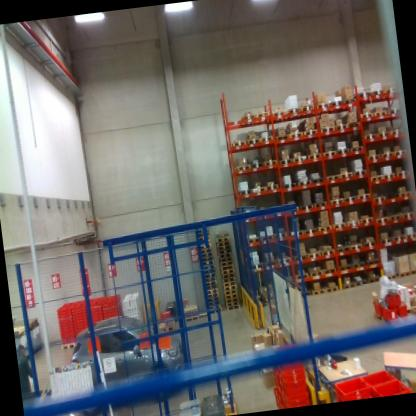pallet: (329, 197, 346, 208), (159, 321, 174, 333), (322, 148, 337, 160), (339, 279, 355, 290), (278, 156, 294, 167), (230, 137, 247, 147), (236, 186, 253, 196), (272, 107, 287, 118), (387, 127, 402, 138), (240, 112, 256, 122), (315, 100, 331, 110), (317, 222, 333, 232), (375, 214, 389, 225), (319, 124, 336, 133), (233, 163, 250, 172), (331, 220, 348, 229), (342, 98, 357, 108), (276, 132, 291, 142), (246, 135, 261, 145), (368, 172, 383, 182), (336, 244, 351, 254), (322, 283, 338, 292), (372, 109, 388, 118), (313, 200, 329, 209), (329, 98, 343, 108), (363, 131, 377, 141), (400, 210, 414, 220), (246, 234, 260, 244), (290, 227, 304, 237), (60, 341, 75, 350), (255, 110, 270, 119), (289, 131, 304, 140), (262, 158, 277, 167), (282, 180, 297, 189), (285, 204, 300, 213), (359, 216, 374, 225), (322, 266, 337, 275), (308, 267, 323, 276), (390, 211, 402, 222), (335, 145, 348, 155), (394, 147, 407, 157), (379, 236, 392, 246), (302, 128, 318, 136), (356, 192, 372, 200), (353, 277, 367, 286), (360, 112, 374, 121), (347, 120, 361, 129), (349, 144, 363, 153), (381, 150, 395, 159), (352, 168, 366, 177), (372, 194, 386, 203), (397, 188, 411, 197), (390, 233, 404, 242), (339, 169, 353, 178), (260, 232, 274, 241), (222, 279, 237, 287), (225, 303, 240, 311), (383, 86, 398, 94), (388, 106, 400, 116), (293, 154, 305, 164), (395, 170, 410, 178), (341, 195, 356, 203), (348, 242, 363, 250), (365, 256, 380, 264), (350, 260, 365, 268), (184, 304, 197, 313), (310, 286, 323, 295), (298, 288, 311, 297), (300, 104, 313, 113), (376, 130, 389, 139), (382, 171, 395, 180), (403, 231, 416, 240), (253, 185, 266, 194), (216, 230, 230, 238), (219, 255, 233, 263), (223, 292, 239, 299), (224, 296, 240, 303), (366, 275, 380, 283), (357, 90, 371, 98), (260, 134, 274, 142), (307, 151, 321, 159), (326, 172, 340, 180), (273, 230, 287, 238), (363, 238, 377, 246), (294, 272, 308, 280), (368, 152, 380, 161), (219, 264, 234, 271), (220, 268, 235, 275), (220, 272, 235, 279), (224, 301, 239, 308), (296, 179, 311, 186), (397, 270, 410, 278), (370, 88, 383, 96), (346, 218, 359, 226), (216, 235, 230, 242), (217, 239, 231, 246), (217, 243, 231, 250), (218, 247, 232, 254), (219, 260, 233, 267), (223, 284, 237, 291), (209, 307, 223, 314), (300, 204, 314, 211), (304, 227, 318, 234), (384, 272, 396, 280), (335, 122, 347, 130), (311, 175, 323, 183), (287, 108, 300, 115), (250, 163, 263, 170), (223, 288, 238, 294), (202, 254, 213, 262), (222, 276, 236, 282), (202, 258, 214, 265), (206, 287, 218, 294), (184, 311, 198, 317), (266, 184, 278, 191), (219, 252, 232, 258), (185, 316, 198, 322), (203, 262, 214, 269), (204, 267, 215, 274), (197, 226, 209, 232), (199, 239, 211, 245), (200, 243, 212, 249), (204, 272, 216, 278), (205, 276, 217, 282), (205, 279, 217, 285), (206, 283, 218, 289), (208, 300, 220, 306), (209, 304, 221, 310), (339, 265, 351, 271), (202, 252, 213, 258), (208, 292, 219, 298), (208, 296, 219, 302), (195, 216, 207, 221), (197, 231, 209, 236), (198, 235, 210, 240), (198, 312, 208, 318), (200, 248, 212, 252), (411, 268, 416, 274)
pallet_truck: (254, 266, 268, 307), (285, 263, 293, 286)
small_load_carrier: (362, 359, 400, 397), (273, 341, 310, 374), (331, 373, 373, 401), (277, 371, 311, 399), (371, 374, 412, 395), (284, 390, 313, 407), (155, 307, 173, 328), (383, 291, 402, 308), (381, 304, 399, 321), (395, 300, 408, 319), (373, 300, 384, 317)
